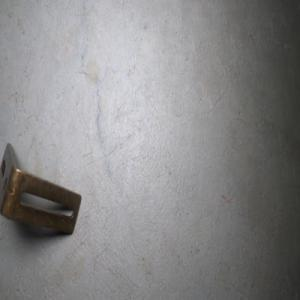MetalPart: (0, 140, 81, 235)
